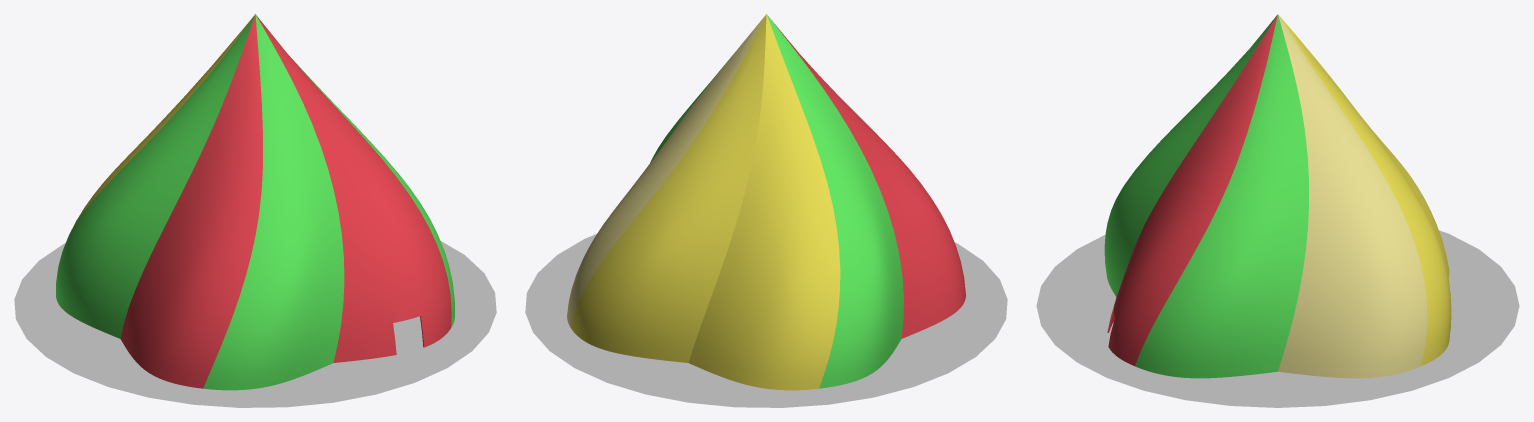
Rendered from model_shape3_height2_surface0_.glb.
3 views of the same model, side by side, from view 1: azimuth 30°, elevation 25°; view 2: azimuth 150°, elevation 25°; view 3: azimuth 270°, elevation 25° (orthographic).
Parts seen in each view (by area): view 1: Plane, Circle; view 2: Plane, Circle; view 3: Plane, Circle.
Boxes of the visible parts, x1=… form: Plane: x1=56, y1=14, x2=454, y2=390; Circle: x1=14, y1=241, x2=496, y2=407; Plane: x1=567, y1=14, x2=965, y2=390; Circle: x1=525, y1=234, x2=1007, y2=407; Plane: x1=1104, y1=14, x2=1451, y2=378; Circle: x1=1036, y1=230, x2=1519, y2=407.
Size of the model in its own units: 30 by 20.03 by 30.
